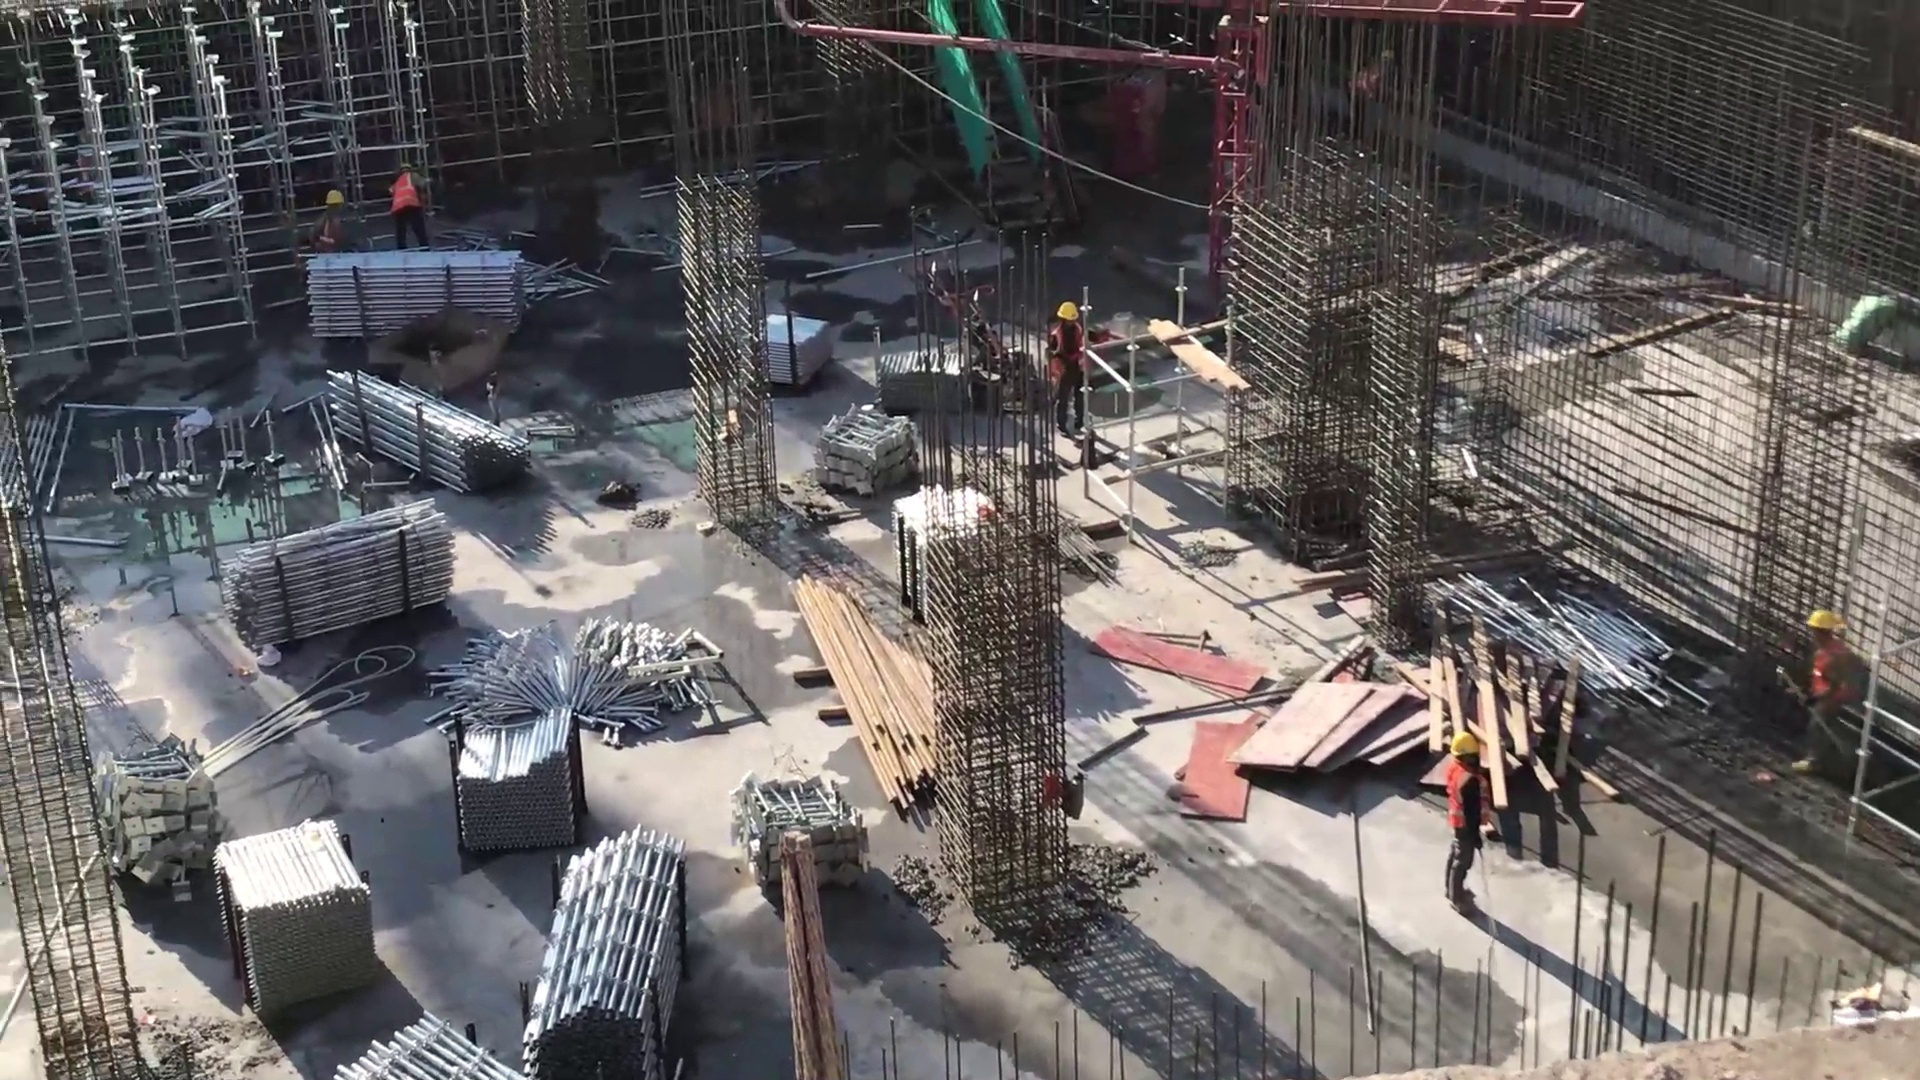board: (1238, 677, 1432, 774)
helmet: (1450, 733, 1477, 754), (1056, 301, 1078, 320), (324, 190, 342, 204)
person: (1036, 293, 1104, 442), (1797, 611, 1859, 769), (1443, 731, 1482, 916), (388, 158, 432, 258), (305, 181, 351, 268)
scaffold: (523, 833, 688, 1080), (206, 506, 454, 633), (1449, 568, 1677, 700), (331, 366, 538, 497), (224, 823, 363, 1006), (305, 249, 529, 345), (447, 701, 585, 857), (338, 1022, 505, 1080), (871, 345, 967, 409), (765, 309, 832, 387)
vest: (1444, 765, 1493, 835), (1047, 326, 1087, 383), (394, 176, 419, 214)
wood: (1424, 618, 1602, 818), (802, 570, 950, 799)
